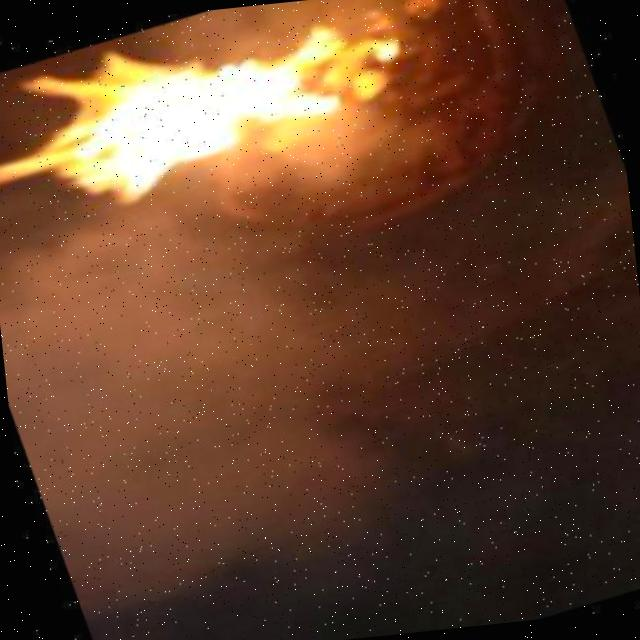fire: (18, 0, 390, 235)
